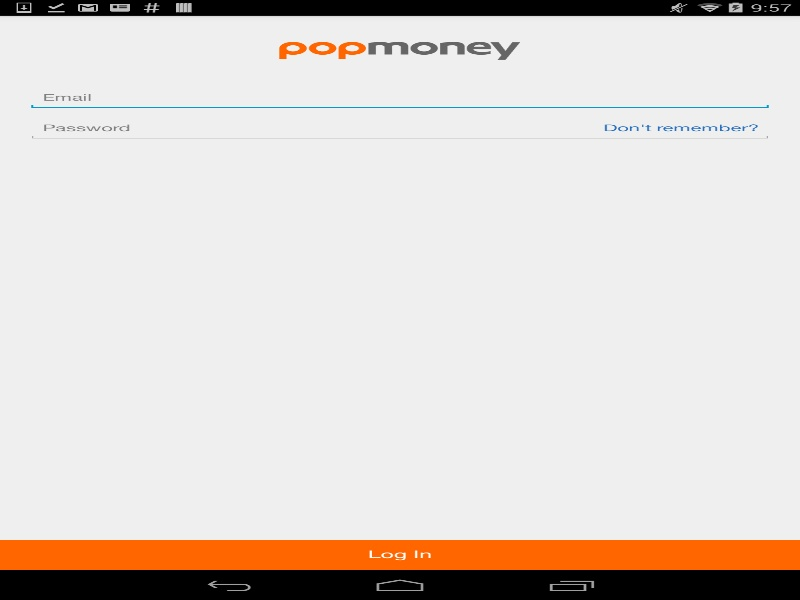Button: (0, 540, 800, 570)
Input: (26, 85, 773, 110), (26, 116, 773, 140)
